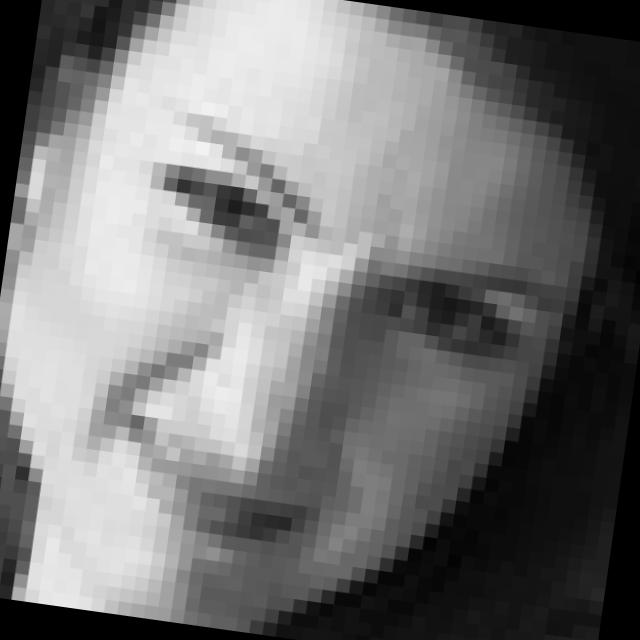disgust: (52, 90, 598, 594)
